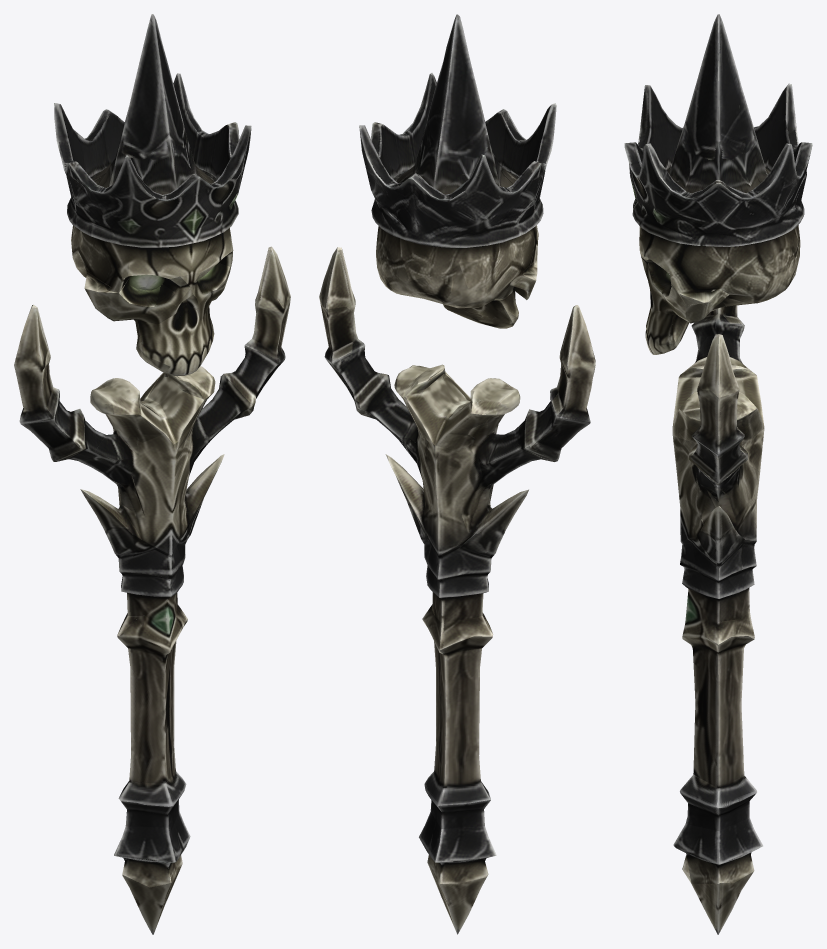
The model's file is lichcrown_staff.glb.
3 views of the same model, side by side, from view 1: azimuth 30°, elevation 25°; view 2: azimuth 150°, elevation 25°; view 3: azimuth 270°, elevation 25° (orthographic).
Size of the model in its own units: 0.597 by 1.9 by 0.3513.
Materials: 1 (1 with a texture image).
